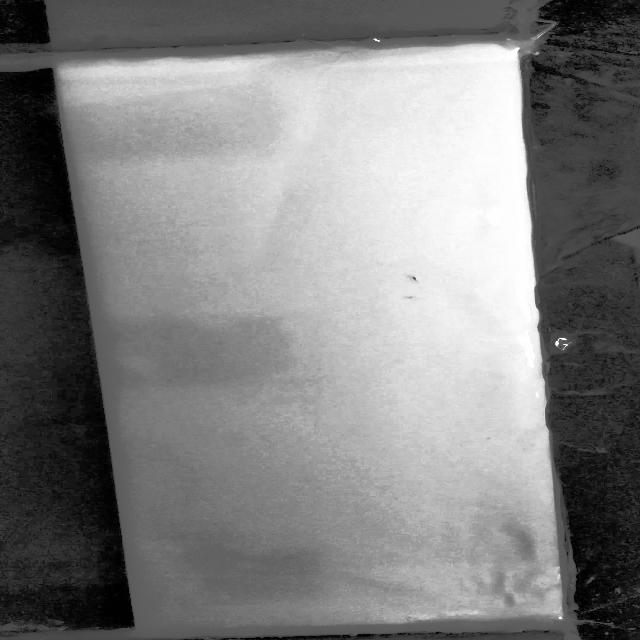shrimp: (399, 267, 427, 285), (396, 291, 435, 302)
